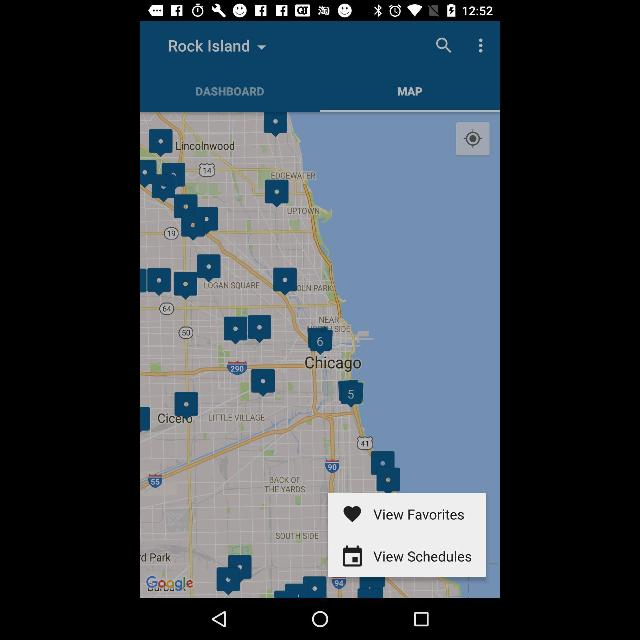icon: (462, 128, 482, 150), (342, 547, 362, 567), (252, 36, 270, 56), (434, 37, 452, 55), (412, 611, 430, 627), (312, 611, 328, 627), (344, 506, 361, 520), (212, 612, 226, 628), (478, 37, 484, 54)
map: (142, 114, 498, 598)
panel: (141, 600, 499, 638)
text: (163, 34, 251, 60), (374, 508, 466, 526), (373, 550, 472, 564)
textbutton: (143, 70, 320, 111), (320, 70, 498, 110), (328, 536, 486, 576), (328, 494, 484, 534)
uppertaskbar: (143, 1, 499, 22)
